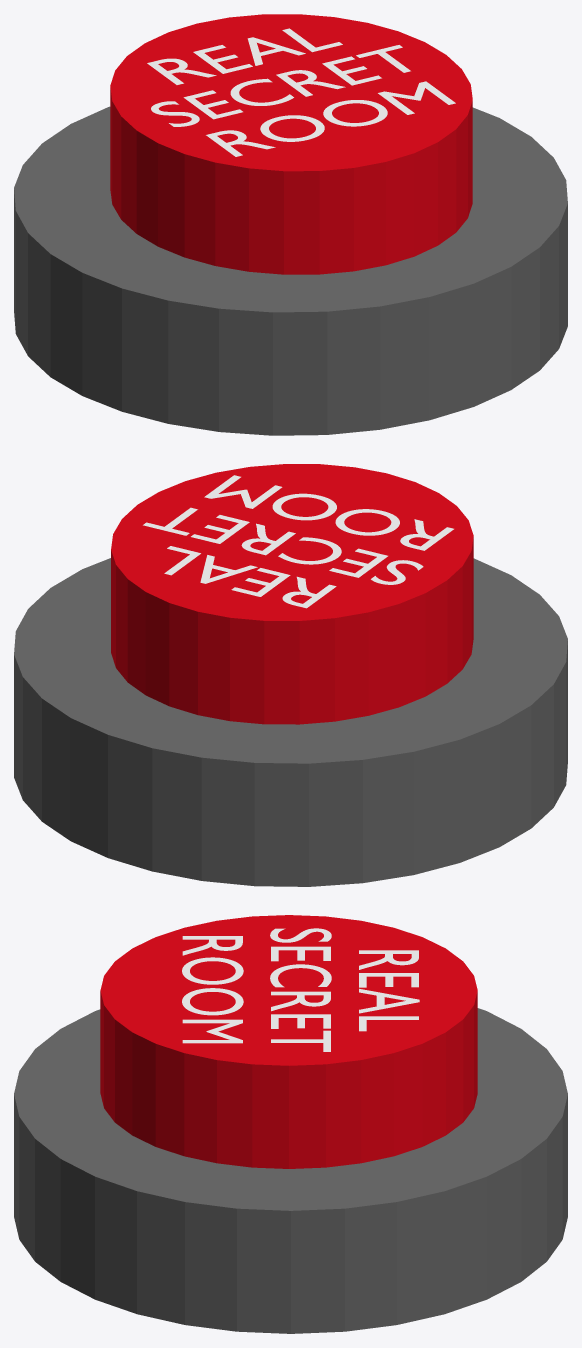
The model's file is Buttontrue.dae.
3 views of the same model, one above another, from view 1: azimuth 30°, elevation 25°; view 2: azimuth 150°, elevation 25°; view 3: azimuth 270°, elevation 25° (orthographic).
Parts seen in each view (by area): view 1: RealSecretRoom button; view 2: RealSecretRoom button; view 3: RealSecretRoom button.
Boxes of the visible parts, x1=… form: RealSecretRoom button: x1=14, y1=14, x2=567, y2=435; RealSecretRoom button: x1=14, y1=464, x2=567, y2=886; RealSecretRoom button: x1=14, y1=915, x2=567, y2=1333.
Bounding box in the file's own units: 0.7321 × 0.7321 × 0.3317.
